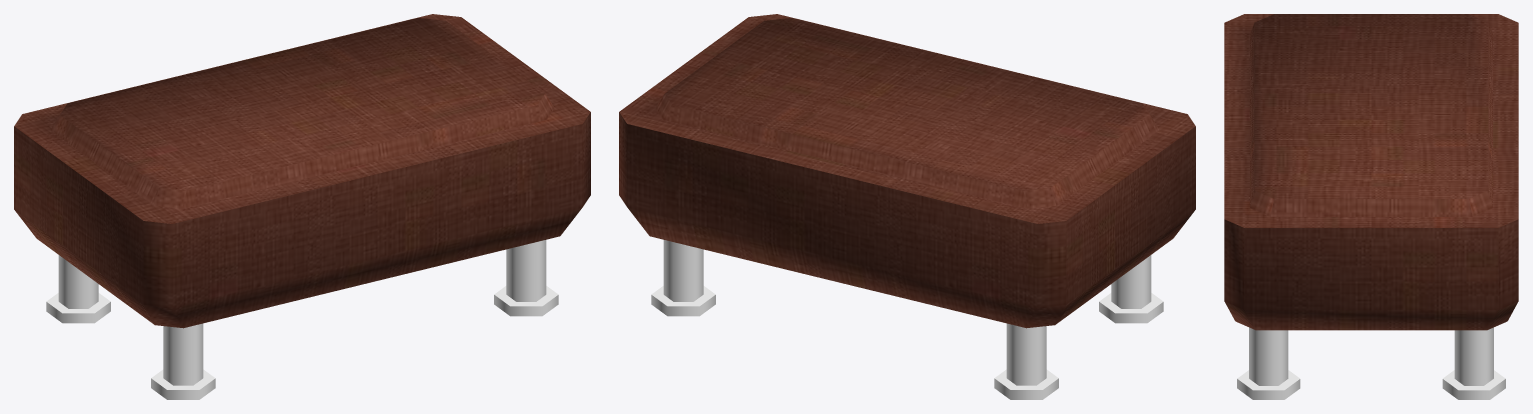
File: Armchair_14.glb
The picture shows the model from 3 angles, left to right: view 1: azimuth 30°, elevation 25°; view 2: azimuth 150°, elevation 25°; view 3: azimuth 270°, elevation 25°; orthographic projection.
Parts seen in each view (by area): view 1: Armchair_14; view 2: Armchair_14; view 3: Armchair_14.
Boxes of the visible parts, box(x1,y1,x2,y2) form: Armchair_14: box(14, 14, 590, 399); Armchair_14: box(619, 14, 1195, 399); Armchair_14: box(1224, 14, 1518, 399).
Bounding box in the file's own units: 1.2 × 0.5209 × 0.696.
Materials: 2 (1 with a texture image).
